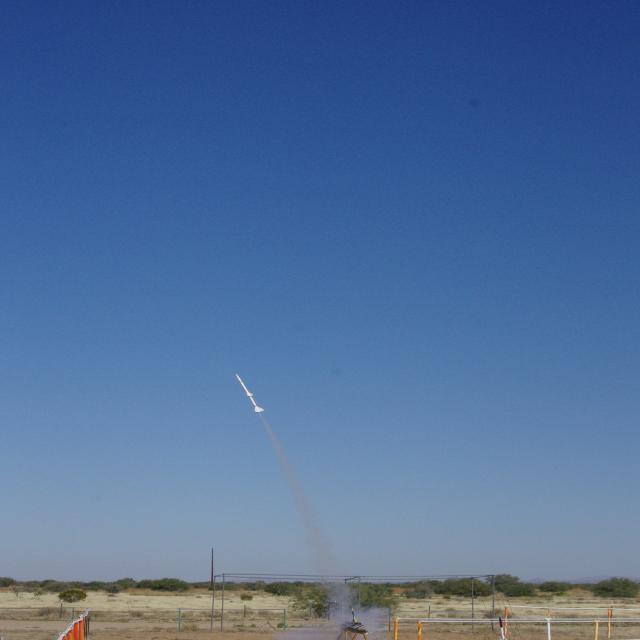Rocket: (235, 373, 265, 414), (498, 616, 508, 640), (350, 608, 358, 624)
